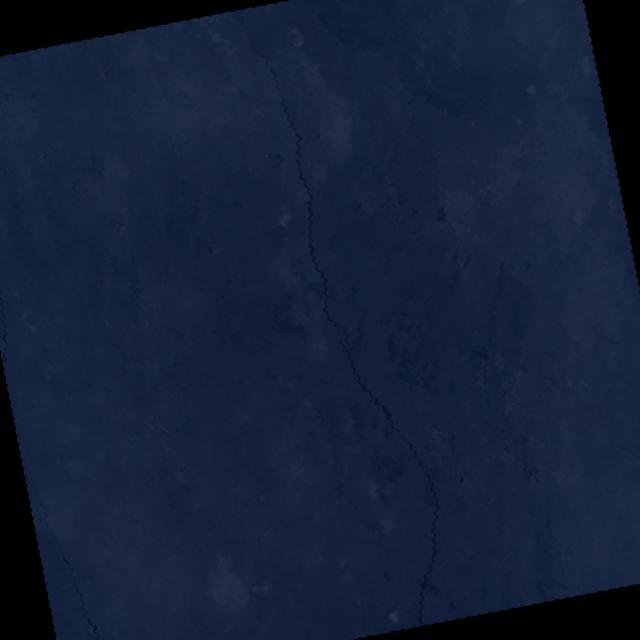crack: (231, 0, 460, 639), (25, 464, 129, 640), (0, 281, 15, 366)
